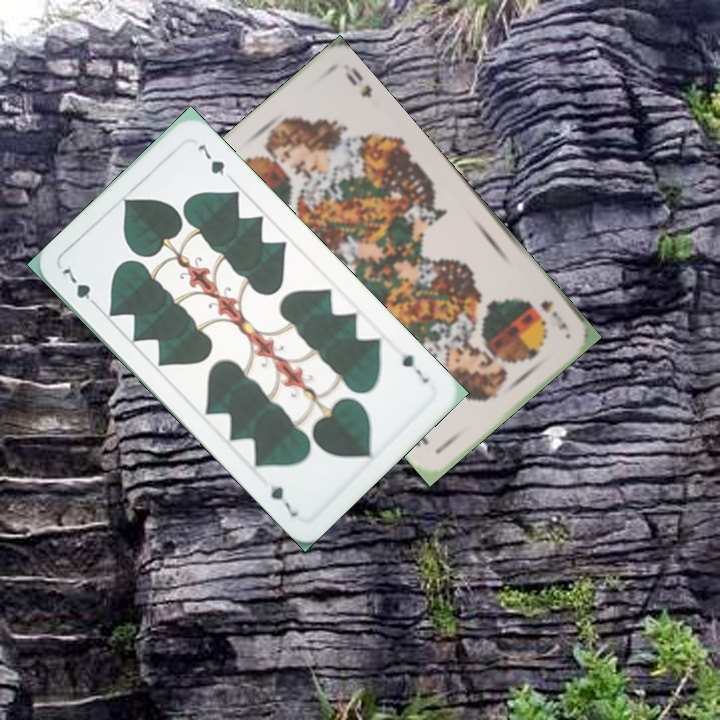G7: (57, 264, 103, 312), (398, 349, 432, 386)
SO: (536, 296, 570, 333)
